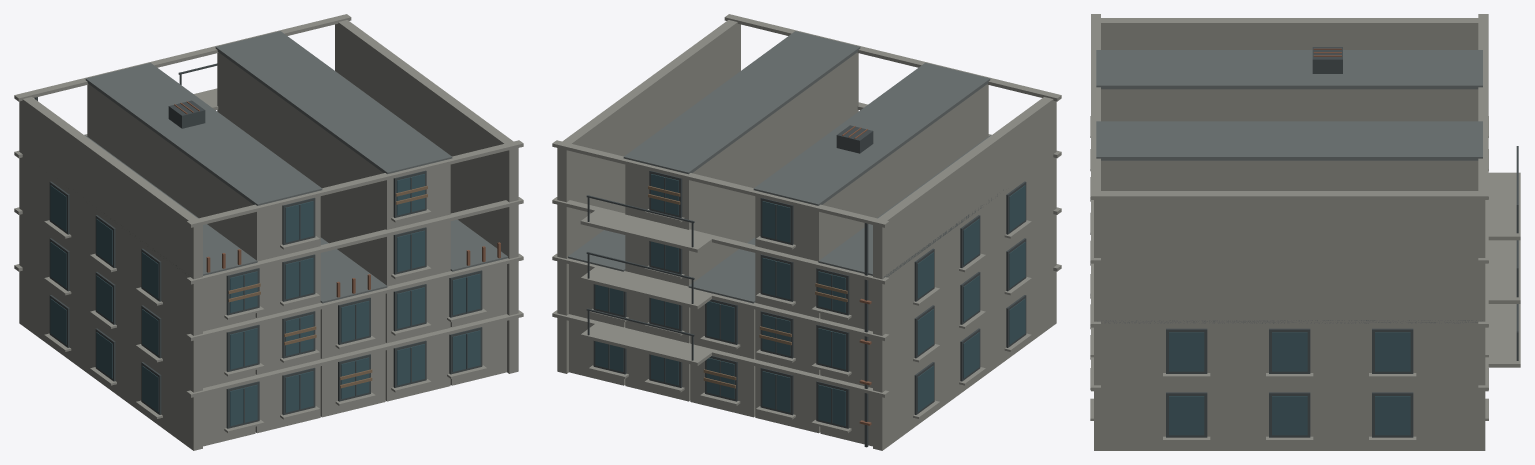
File: Ville_Batiment_07.fbx
3 renders of one model, left to right at view 1: azimuth 30°, elevation 25°; view 2: azimuth 150°, elevation 25°; view 3: azimuth 270°, elevation 25°, orthographic. The views are drawn at different scales.
Parts seen in each view (by area): view 1: Ville_Batiment_07_concrete, Ville_Batiment_07_concrete_dark, Ville_Batiment_07_glass, Ville_Batiment_07_iron, Ville_Batiment_07_wood, Ville_Batiment_07_rust; view 2: Ville_Batiment_07_concrete, Ville_Batiment_07_concrete_dark, Ville_Batiment_07_glass, Ville_Batiment_07_iron, Ville_Batiment_07_wood; view 3: Ville_Batiment_07_concrete, Ville_Batiment_07_concrete_dark, Ville_Batiment_07_glass, Ville_Batiment_07_iron.
Boxes of the visible parts, x1,y1,x2,y2 form: Ville_Batiment_07_concrete: (14,14,523,450); Ville_Batiment_07_concrete_dark: (68,31,507,303); Ville_Batiment_07_glass: (50,174,480,426); Ville_Batiment_07_iron: (34,63,482,428); Ville_Batiment_07_wood: (228,186,427,388); Ville_Batiment_07_rust: (174,101,500,297); Ville_Batiment_07_concrete: (552,14,1061,450); Ville_Batiment_07_concrete_dark: (568,31,1003,303); Ville_Batiment_07_glass: (595,174,1025,426); Ville_Batiment_07_iron: (586,125,1026,447); Ville_Batiment_07_wood: (648,186,847,388); Ville_Batiment_07_concrete: (1090,14,1520,450); Ville_Batiment_07_concrete_dark: (1096,50,1482,323); Ville_Batiment_07_glass: (1169,332,1410,435); Ville_Batiment_07_iron: (1166,47,1518,437).
Bounding box in the file's own units: 43.56 × 30.1 × 42.85.
